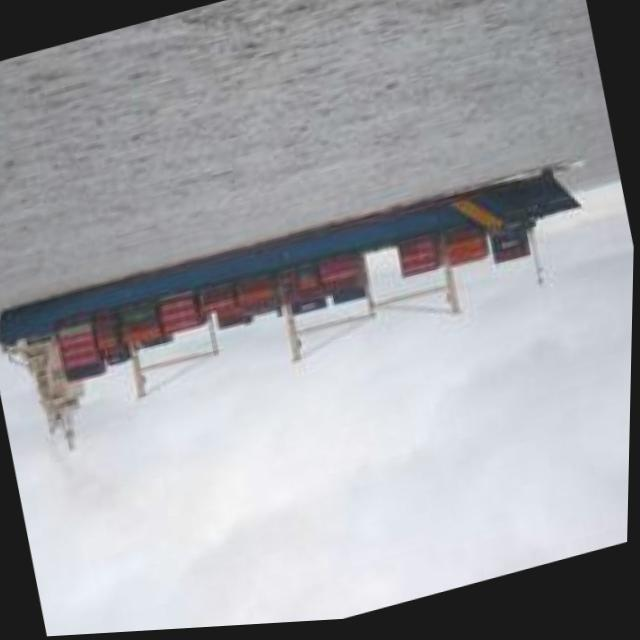ship2: (0, 175, 583, 451)
